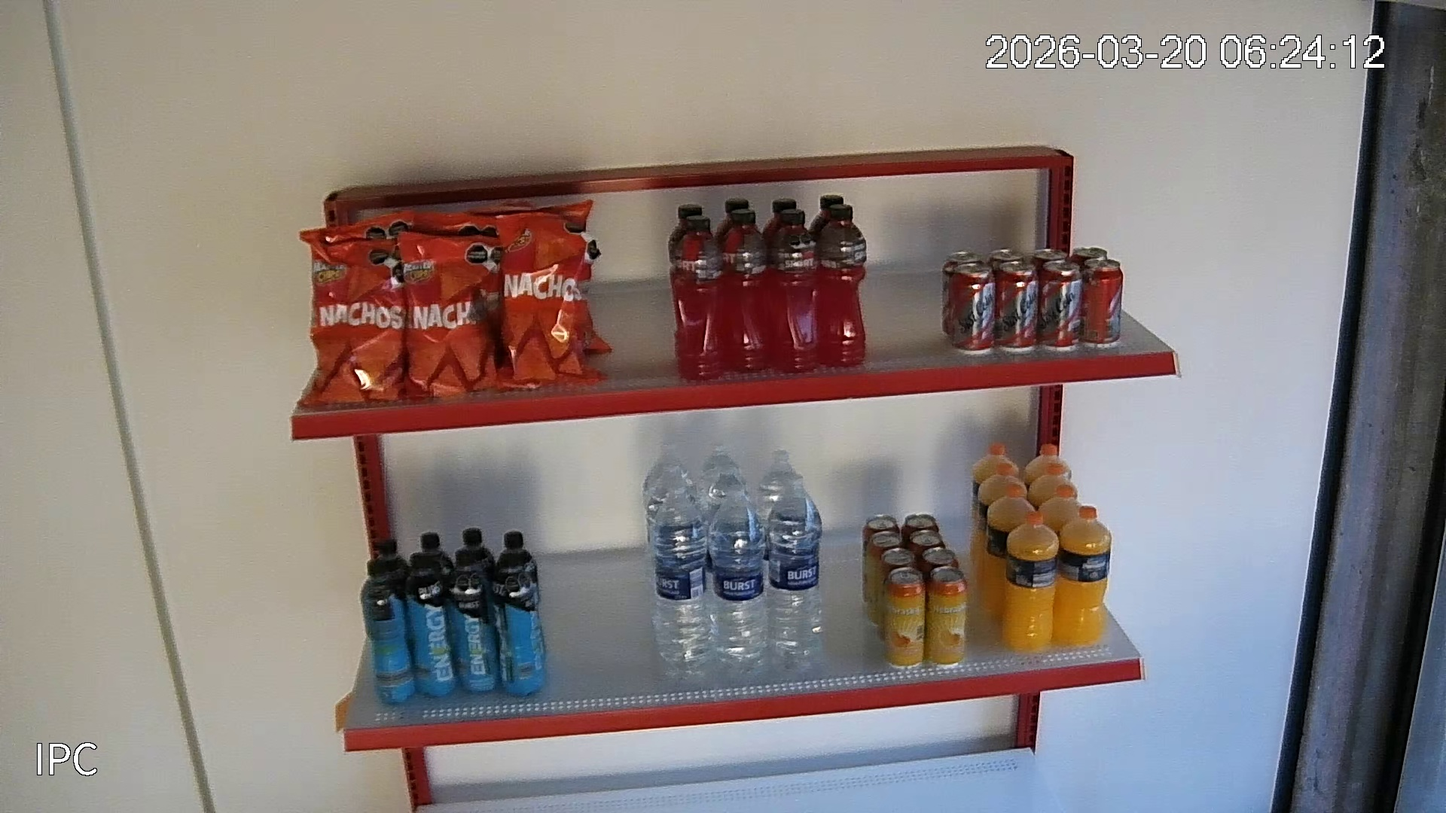agua_burst: (707, 485, 769, 669), (643, 439, 697, 504), (758, 450, 794, 523)
burst_energetica_roja: (673, 216, 726, 380), (817, 204, 868, 369), (762, 198, 797, 241)
burst_energy: (444, 547, 502, 695), (360, 558, 416, 705), (420, 532, 453, 580)
nachos_naturasol: (298, 210, 414, 408), (497, 213, 610, 392), (463, 200, 594, 228)
nebraska_mango: (925, 566, 966, 666), (865, 530, 904, 623), (901, 512, 940, 549)
sisi_cola: (1039, 259, 1083, 353), (953, 263, 996, 355), (1070, 244, 1109, 262)
sun_paradise_naranja: (1001, 511, 1059, 655), (1053, 506, 1111, 647), (970, 463, 1028, 576)
